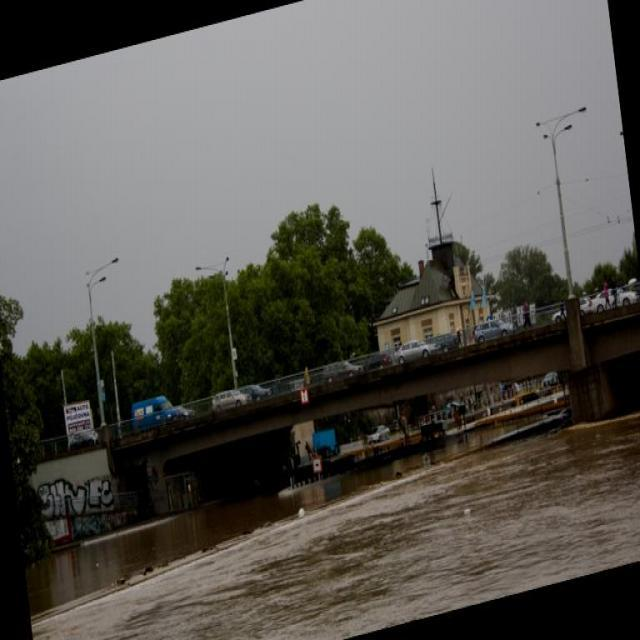flood: (21, 375, 639, 639)
